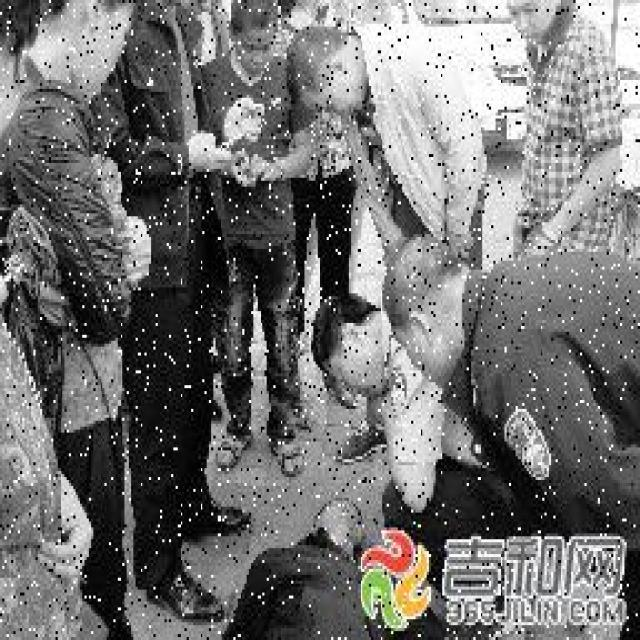fall: (208, 477, 384, 637)
